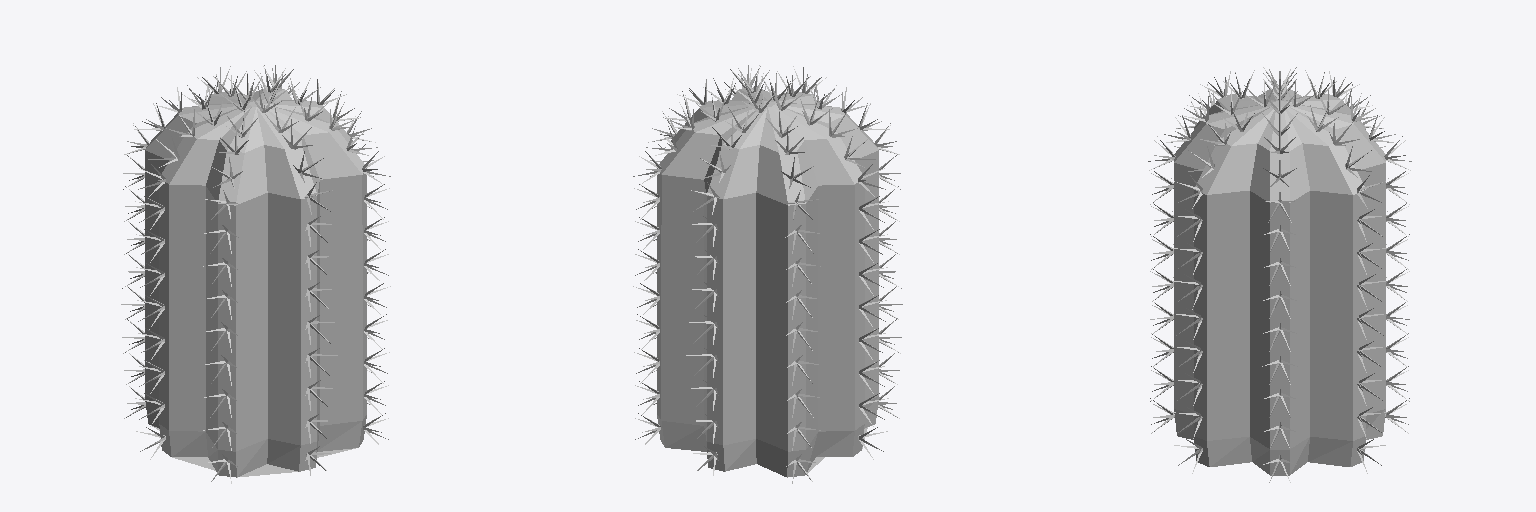
File: cactus1.obj
The picture shows the model from 3 angles: view 1: azimuth 30°, elevation 25°; view 2: azimuth 150°, elevation 25°; view 3: azimuth 270°, elevation 25°; orthographic projection.
Visible parts, largest first — view 1: body_b1, prickles.003; view 2: body_b1, prickles.003; view 3: body_b1, prickles.003.
Part boxes in pixels (x1,y1,x2,y2): body_b1: (145,87,366,477); prickles.003: (121,65,390,483); body_b1: (657,87,878,477); prickles.003: (633,65,902,483); body_b1: (1174,89,1385,475); prickles.003: (1148,67,1411,482).
Bounding box in the file's own units: 8.81 × 12.88 × 8.81.